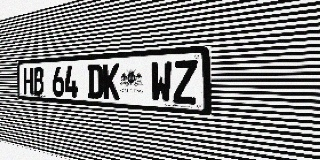4: (65, 65, 78, 98)
6: (52, 66, 64, 97)
B: (33, 67, 44, 96)
D: (87, 64, 103, 99)
H: (24, 67, 33, 95)
K: (103, 63, 120, 100)
W: (150, 61, 172, 103)
Z: (173, 60, 197, 105)
